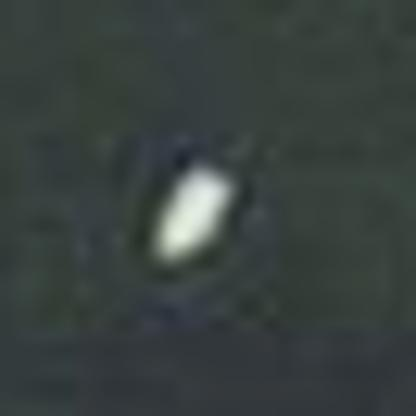ship: (132, 144, 252, 279)
